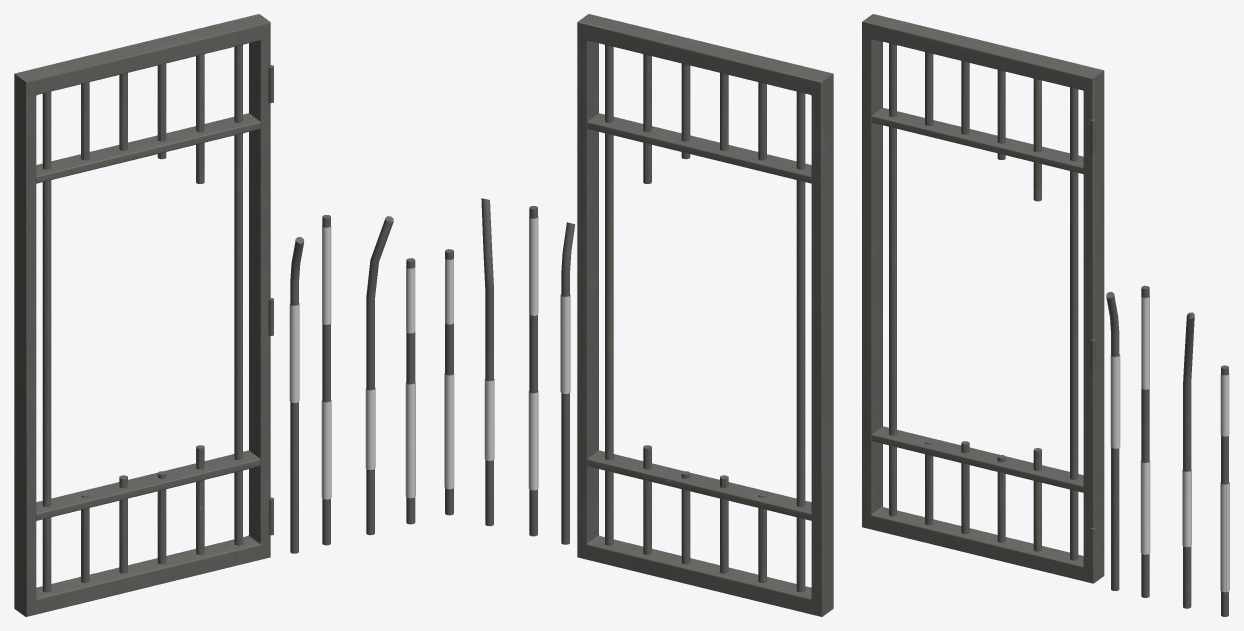
3 views of the same model, side by side, from view 1: azimuth 30°, elevation 25°; view 2: azimuth 150°, elevation 25°; view 3: azimuth 330°, elevation 25° (orthographic). The views are drawn at different scales.
Visible parts, largest first — view 1: SM_PrisonDoor_Bars_BreakAway_LOD0, SM_PrisonDoor_Bars_BreakAway_A_LOD0, SM_PrisonDoor_Bars_BreakAway_B_LOD0, SM_PrisonDoor_Bars_BreakAway_C_LOD0, SM_PrisonDoor_Bars_BreakAway_D_LOD0; view 2: SM_PrisonDoor_Bars_BreakAway_LOD0, SM_PrisonDoor_Bars_BreakAway_A_LOD0, SM_PrisonDoor_Bars_BreakAway_B_LOD0, SM_PrisonDoor_Bars_BreakAway_C_LOD0, SM_PrisonDoor_Bars_BreakAway_D_LOD0; view 3: SM_PrisonDoor_Bars_BreakAway_LOD0, SM_PrisonDoor_Bars_BreakAway_A_LOD0, SM_PrisonDoor_Bars_BreakAway_C_LOD0, SM_PrisonDoor_Bars_BreakAway_B_LOD0, SM_PrisonDoor_Bars_BreakAway_D_LOD0.
Part boxes in pixels (<box>): SM_PrisonDoor_Bars_BreakAway_LOD0: <box>14,14,273,616</box>; SM_PrisonDoor_Bars_BreakAway_A_LOD0: <box>321,215,331,545</box>; SM_PrisonDoor_Bars_BreakAway_B_LOD0: <box>365,216,393,535</box>; SM_PrisonDoor_Bars_BreakAway_C_LOD0: <box>289,237,304,553</box>; SM_PrisonDoor_Bars_BreakAway_D_LOD0: <box>405,258,415,524</box>; SM_PrisonDoor_Bars_BreakAway_LOD0: <box>577,14,833,616</box>; SM_PrisonDoor_Bars_BreakAway_A_LOD0: <box>528,206,538,536</box>; SM_PrisonDoor_Bars_BreakAway_B_LOD0: <box>481,198,494,526</box>; SM_PrisonDoor_Bars_BreakAway_C_LOD0: <box>560,222,575,544</box>; SM_PrisonDoor_Bars_BreakAway_D_LOD0: <box>444,249,454,515</box>; SM_PrisonDoor_Bars_BreakAway_LOD0: <box>862,14,1104,583</box>; SM_PrisonDoor_Bars_BreakAway_A_LOD0: <box>1140,285,1150,597</box>; SM_PrisonDoor_Bars_BreakAway_C_LOD0: <box>1106,292,1120,591</box>; SM_PrisonDoor_Bars_BreakAway_B_LOD0: <box>1182,312,1194,608</box>; SM_PrisonDoor_Bars_BreakAway_D_LOD0: <box>1220,365,1229,616</box>.
Bounding box in the file's own units: 182 × 240 × 17.73.
